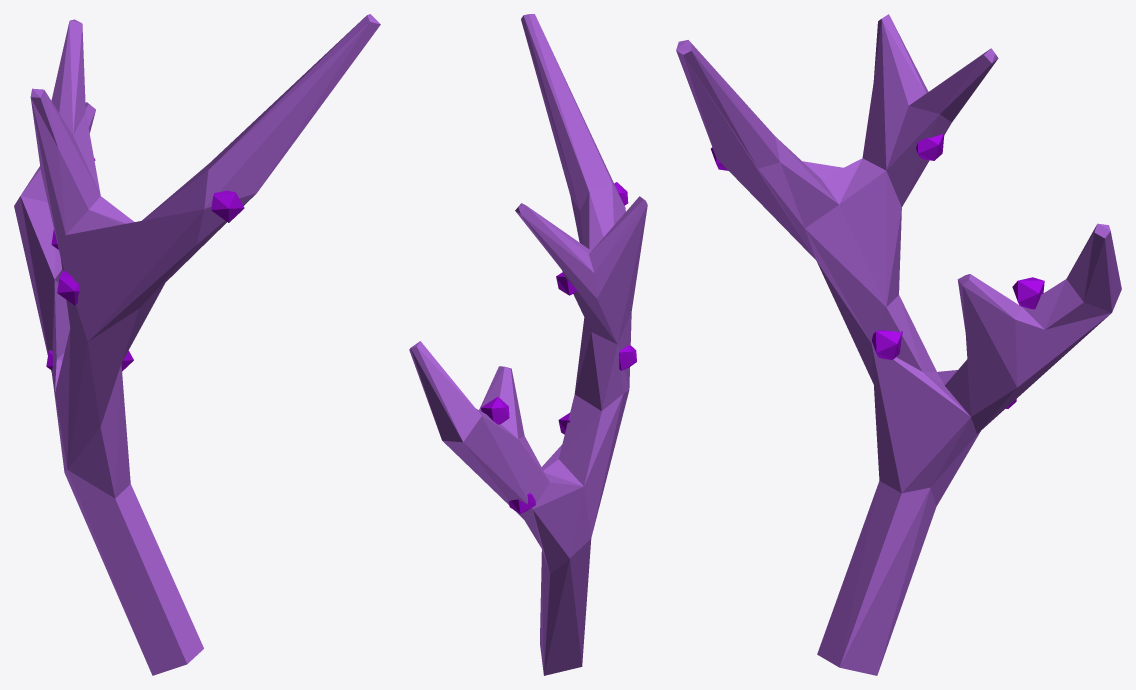
File: Tree 2.fbx
3 renders of one model, left to right at view 1: azimuth 30°, elevation 25°; view 2: azimuth 150°, elevation 25°; view 3: azimuth 270°, elevation 25°, orthographic. The views are drawn at different scales.
Visible parts, largest first — view 1: Plane.003; view 2: Plane.003; view 3: Plane.003.
Boxes of the visible parts, box(x1,y1,x2,y2) form: Plane.003: box(14, 14, 380, 675); Plane.003: box(409, 14, 647, 675); Plane.003: box(676, 14, 1121, 675).
Size of the model in its own units: 234 by 616 by 360.
